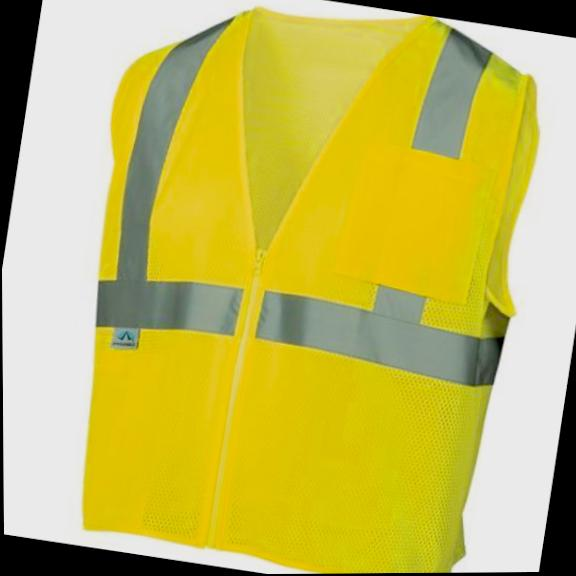safety_vest: (46, 0, 561, 576)
